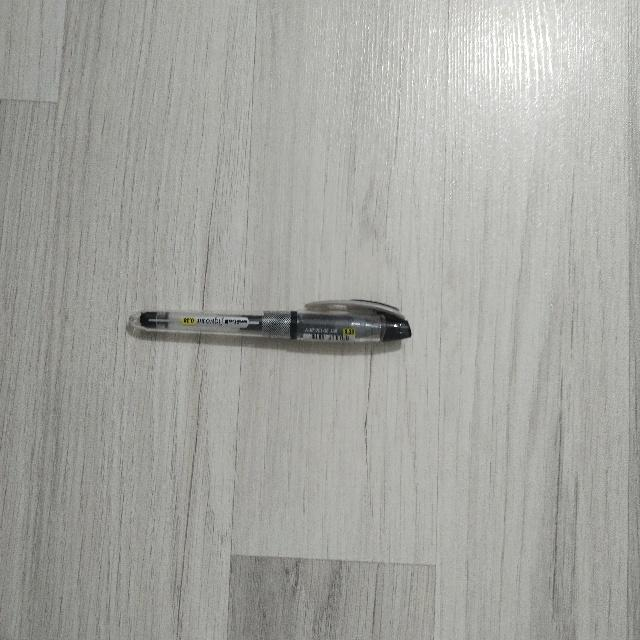pen: (129, 300, 410, 342)
